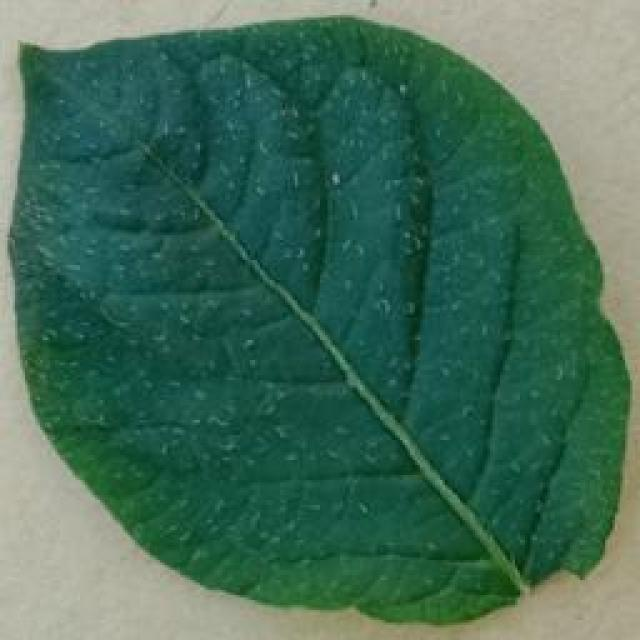Potato_Healthy: (8, 17, 622, 623)
